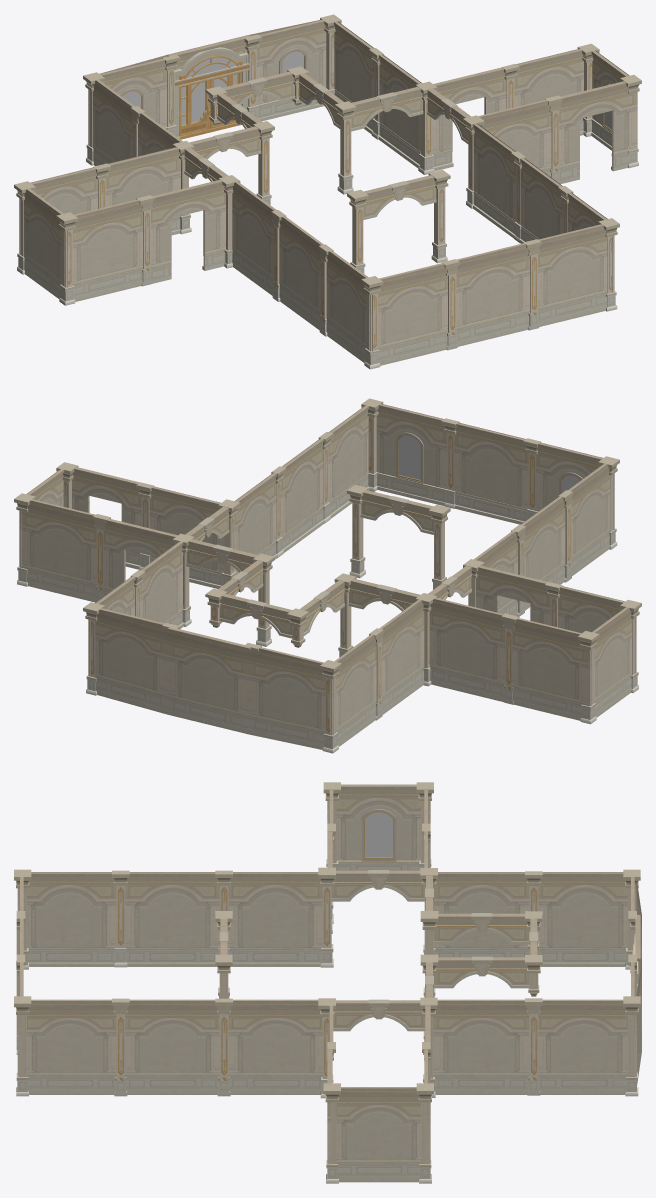
Rendered from Homeworld_Interior_Fd_Room_C_Wall_01_Vo.fbx.
3 renders of one model, top to bottom at view 1: azimuth 30°, elevation 25°; view 2: azimuth 150°, elevation 25°; view 3: azimuth 270°, elevation 25°, orthographic. The views are drawn at different scales.
Parts seen in each view (by area): view 1: Homeworld_Interior_Fd_Room_C_Filling_01_Vo, Homeworld_Interior_Fd_Room_Wall_01_Vo (×8), Homeworld_Interior_Fd_Room_Pillar_01_Vo (×15), Homeworld_Interior_Fd_Room_Wall_06_Vo (×3), Homeworld_Interior_Fd_Room_Wall_04_Vo (×8), Homeworld_Interior_Fd_Room_Wall_02_Vo (×3), Homeworld_Interior_Fd_Room_Pillar_02_Vo (×10), Homeworld_Interior_Fd_Room_Wall_07_Vo; view 2: Homeworld_Interior_Fd_Room_C_Filling_01_Vo, Homeworld_Interior_Fd_Room_Wall_01_Vo (×8), Homeworld_Interior_Fd_Room_Pillar_01_Vo (×14), Homeworld_Interior_Fd_Room_Wall_04_Vo (×8), Homeworld_Interior_Fd_Room_Wall_02_Vo (×3), Homeworld_Interior_Fd_Room_Wall_06_Vo (×3), Homeworld_Interior_Fd_Room_Pillar_02_Vo (×9), Homeworld_Interior_Fd_Room_Pillar_03_Vo; view 3: Homeworld_Interior_Fd_Room_C_Filling_01_Vo, Homeworld_Interior_Fd_Room_Wall_01_Vo (×5), Homeworld_Interior_Fd_Room_Pillar_01_Vo (×13), Homeworld_Interior_Fd_Room_Wall_04_Vo (×4), Homeworld_Interior_Fd_Room_Wall_02_Vo, Homeworld_Interior_Fd_Room_Pillar_02_Vo (×4).
Part boxes in pixels (left/top/right/bottom): Homeworld_Interior_Fd_Room_C_Filling_01_Vo: left=24, top=19, right=629, bottom=365; Homeworld_Interior_Fd_Room_Wall_01_Vo (×8): left=19, top=21, right=613, bottom=292; Homeworld_Interior_Fd_Room_Pillar_01_Vo (×15): left=14, top=14, right=619, bottom=369; Homeworld_Interior_Fd_Room_Wall_06_Vo (×3): left=151, top=67, right=637, bottom=283; Homeworld_Interior_Fd_Room_Wall_04_Vo (×8): left=184, top=71, right=470, bottom=219; Homeworld_Interior_Fd_Room_Wall_02_Vo (×3): left=88, top=20, right=628, bottom=150; Homeworld_Interior_Fd_Room_Pillar_02_Vo (×10): left=136, top=34, right=562, bottom=350; Homeworld_Interior_Fd_Room_Wall_07_Vo: left=167, top=35, right=250, bottom=139; Homeworld_Interior_Fd_Room_C_Filling_01_Vo: left=19, top=403, right=631, bottom=749; Homeworld_Interior_Fd_Room_Wall_01_Vo (×8): left=89, top=405, right=636, bottom=676; Homeworld_Interior_Fd_Room_Pillar_01_Vo (×14): left=14, top=398, right=641, bottom=753; Homeworld_Interior_Fd_Room_Wall_04_Vo (×8): left=185, top=490, right=471, bottom=638; Homeworld_Interior_Fd_Room_Wall_02_Vo (×3): left=20, top=404, right=614, bottom=567; Homeworld_Interior_Fd_Room_Wall_06_Vo (×3): left=72, top=467, right=550, bottom=625; Homeworld_Interior_Fd_Room_Pillar_02_Vo (×9): left=93, top=418, right=572, bottom=720; Homeworld_Interior_Fd_Room_Pillar_03_Vo: left=287, top=608, right=308, bottom=647; Homeworld_Interior_Fd_Room_C_Filling_01_Vo: left=27, top=784, right=641, bottom=1182; Homeworld_Interior_Fd_Room_Wall_01_Vo (×5): left=17, top=872, right=627, bottom=966; Homeworld_Interior_Fd_Room_Pillar_01_Vo (×13): left=14, top=782, right=640, bottom=1183; Homeworld_Interior_Fd_Room_Wall_04_Vo (×4): left=331, top=870, right=529, bottom=1031; Homeworld_Interior_Fd_Room_Wall_02_Vo: left=327, top=785, right=430, bottom=870; Homeworld_Interior_Fd_Room_Pillar_02_Vo (×4): left=112, top=870, right=542, bottom=1096.
Size of what is drawn, in the model's own units: 35.35 by 5.02 by 30.41.
